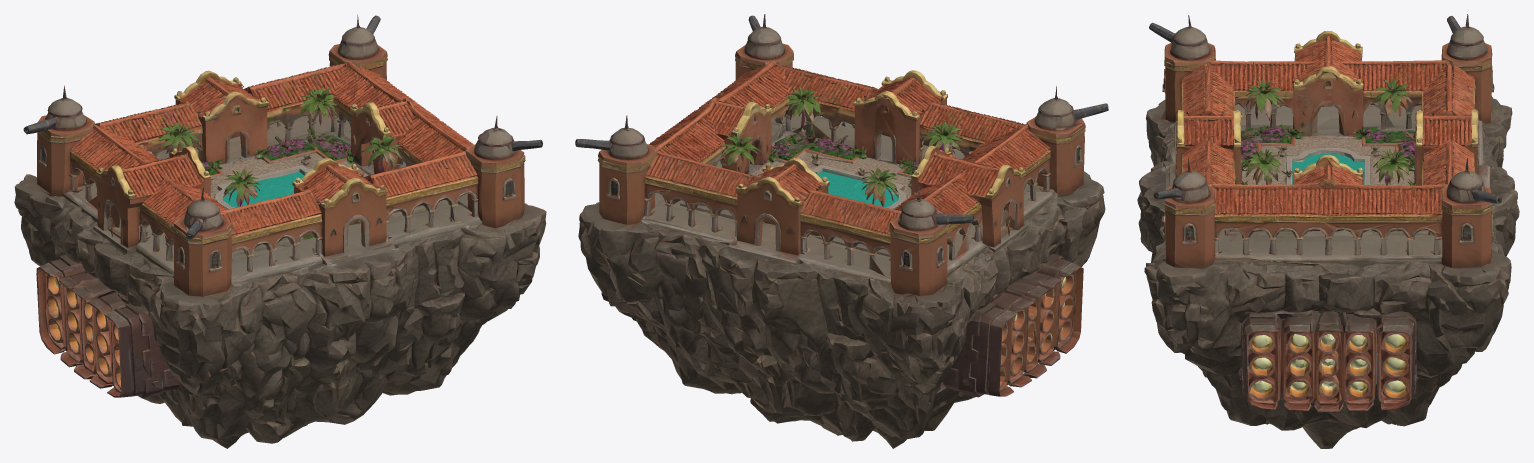
Rendered from hacienda.glb.
3 views of the same model, side by side, from view 1: azimuth 30°, elevation 25°; view 2: azimuth 150°, elevation 25°; view 3: azimuth 270°, elevation 25° (orthographic).
Parts seen in each view (by area): view 1: Mesh_0; view 2: Mesh_0; view 3: Mesh_0.
Part boxes in pixels (x1,y1,x2,y2): Mesh_0: [14, 14, 546, 448]; Mesh_0: [575, 14, 1108, 448]; Mesh_0: [1137, 14, 1519, 448].
Size of the model in its own units: 1.9 by 1.49 by 1.53.
Materials: 1 (1 with a texture image).
